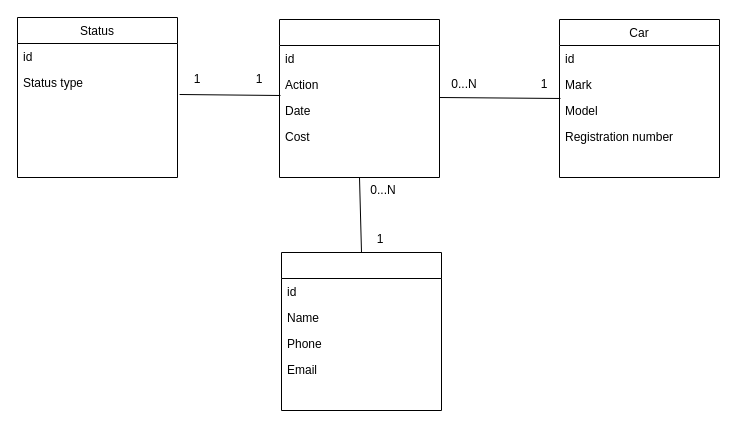
The diagram is 737 pixels wide and 428 high, and some of its shapes have lost their labels. Here are the shapes that lost their labels. From the top down, the box of each, then its label:
(278, 18, 440, 178): Operation
(280, 252, 442, 410): Worker
